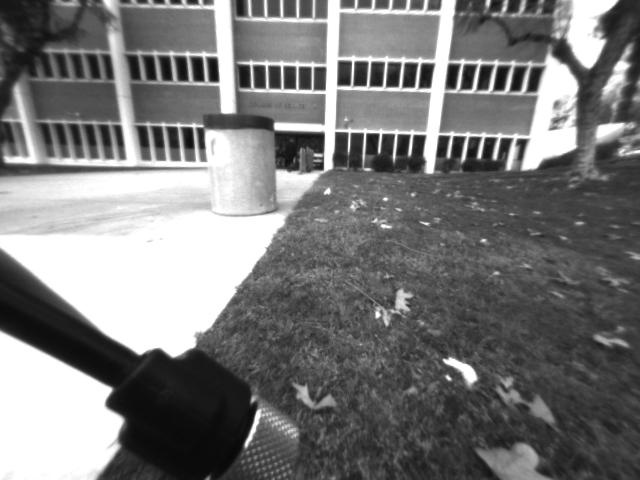trashcan: (193, 104, 290, 220)
